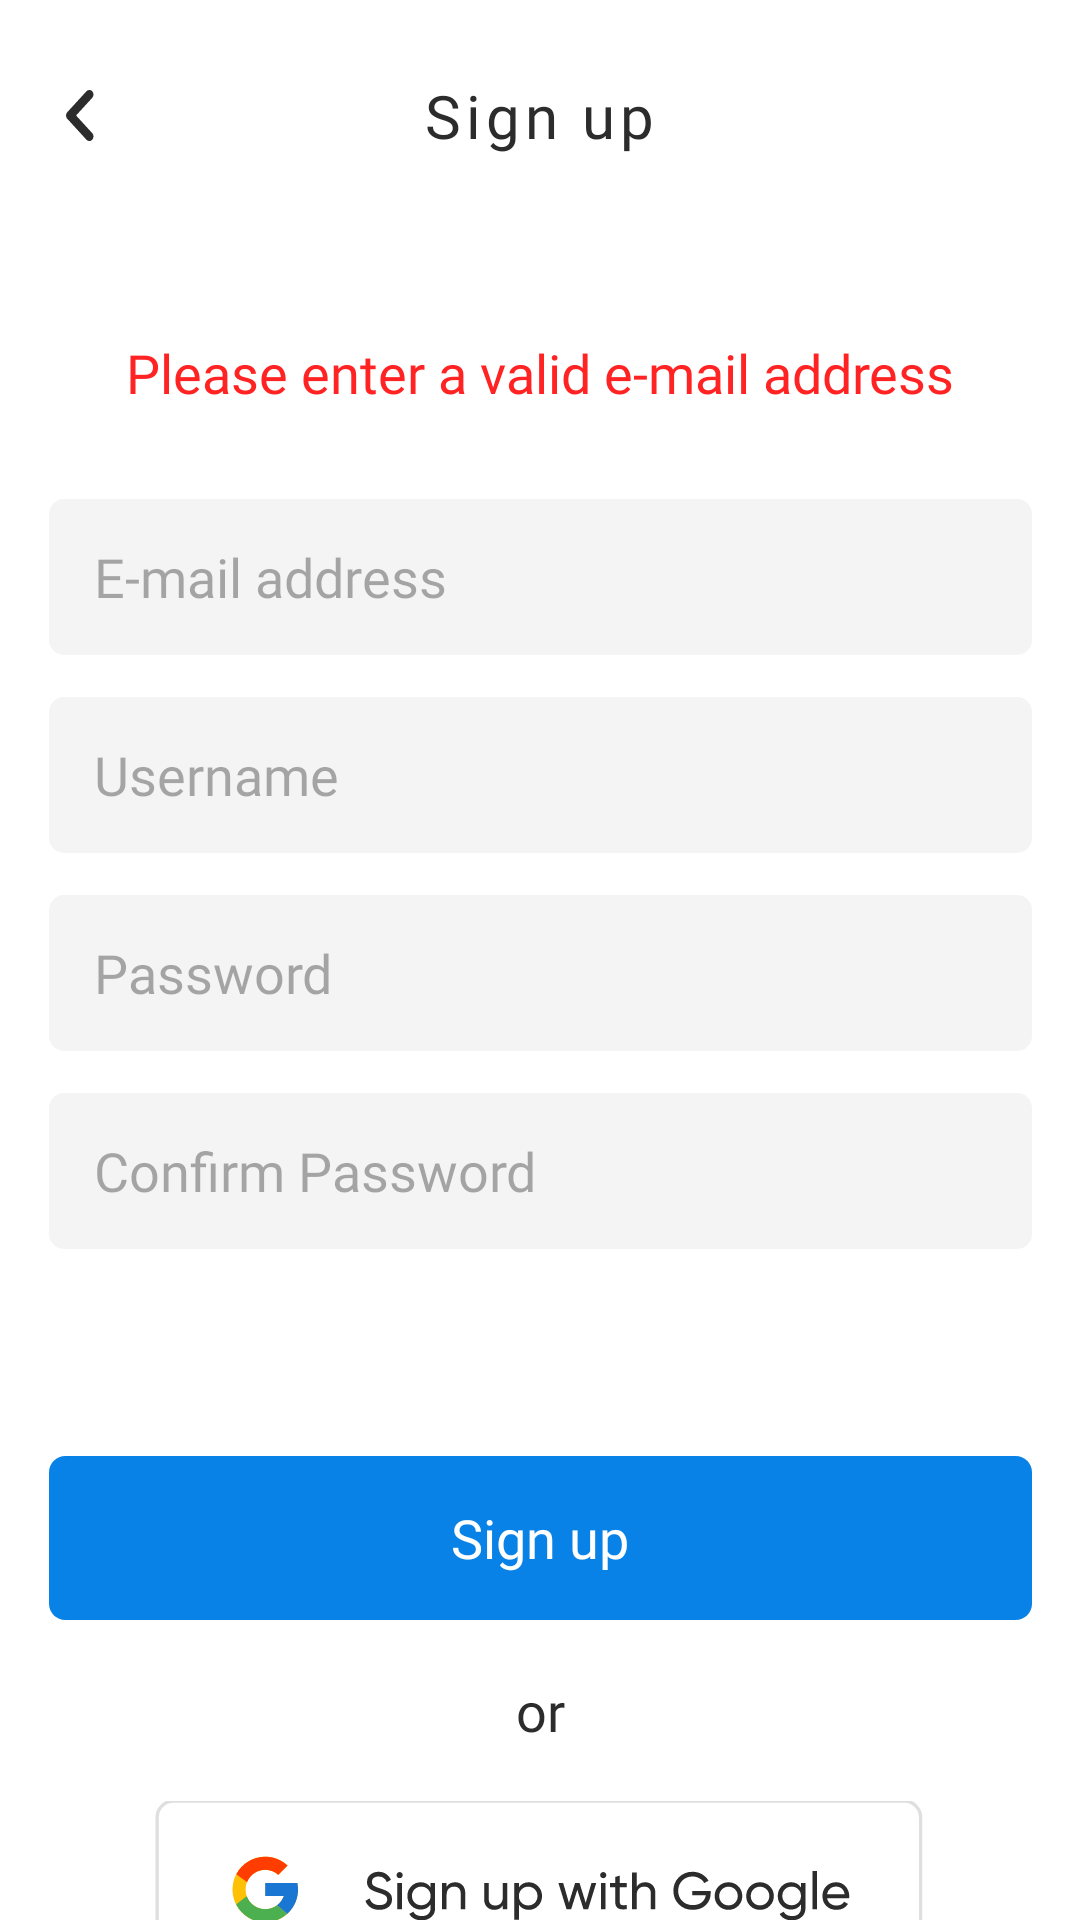

Locate icon controls on the screen. Image size 1080×1920, boxes as box=[x1, y1, x2, y2].
back: box=[66, 90, 94, 141]
